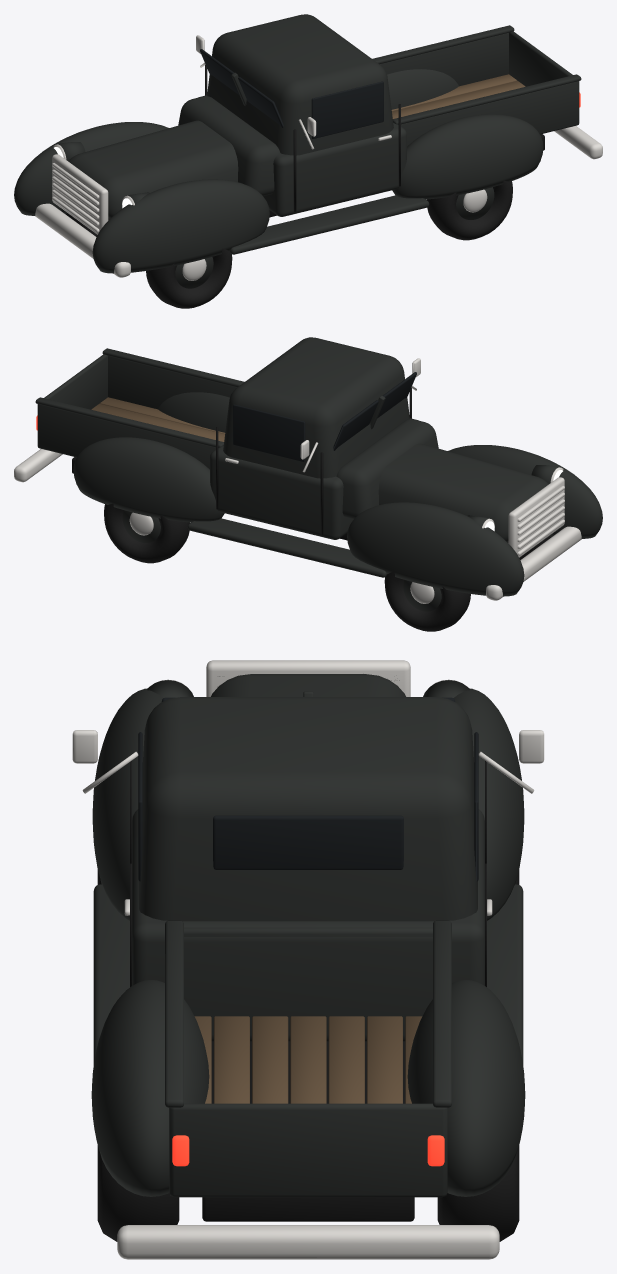
The model's file is truck.glb.
The picture shows the model from 3 angles, top to bottom: view 1: azimuth 30°, elevation 25°; view 2: azimuth 150°, elevation 25°; view 3: azimuth 270°, elevation 25°; orthographic projection. The views are drawn at different scales.
Visible parts, largest first — view 1: T_Paint, T_Chrome, T_Tire, T_Glass, T_Wood, T_Dark; view 2: T_Paint, T_Chrome, T_Tire, T_Glass, T_Wood, T_Dark; view 3: T_Paint, T_Chrome, T_Wood, T_Glass, T_Dark, T_Tire, T_Tail.
Part boxes in pixels (left/top/right/bottom): T_Paint: left=14, top=14, right=581, bottom=288; T_Chrome: left=35, top=35, right=602, bottom=280; T_Tire: left=65, top=180, right=512, bottom=308; T_Glass: left=200, top=49, right=383, bottom=138; T_Wood: left=391, top=74, right=525, bottom=118; T_Dark: left=108, top=65, right=544, bottom=220; T_Paint: left=35, top=337, right=602, bottom=611; T_Chrome: left=14, top=358, right=581, bottom=603; T_Tire: left=104, top=503, right=551, bottom=631; T_Glass: left=233, top=372, right=416, bottom=461; T_Wood: left=91, top=397, right=225, bottom=441; T_Dark: left=72, top=388, right=508, bottom=543; T_Paint: left=91, top=674, right=525, bottom=1197; T_Chrome: left=72, top=660, right=544, bottom=1259; T_Wood: left=194, top=1016, right=422, bottom=1103; T_Glass: left=138, top=697, right=478, bottom=881; T_Dark: left=130, top=676, right=486, bottom=1221; T_Tire: left=97, top=869, right=519, bottom=1241; T_Tail: left=172, top=1135, right=444, bottom=1166.
Size of the model in its own units: 5.46 by 1.96 by 2.22.
